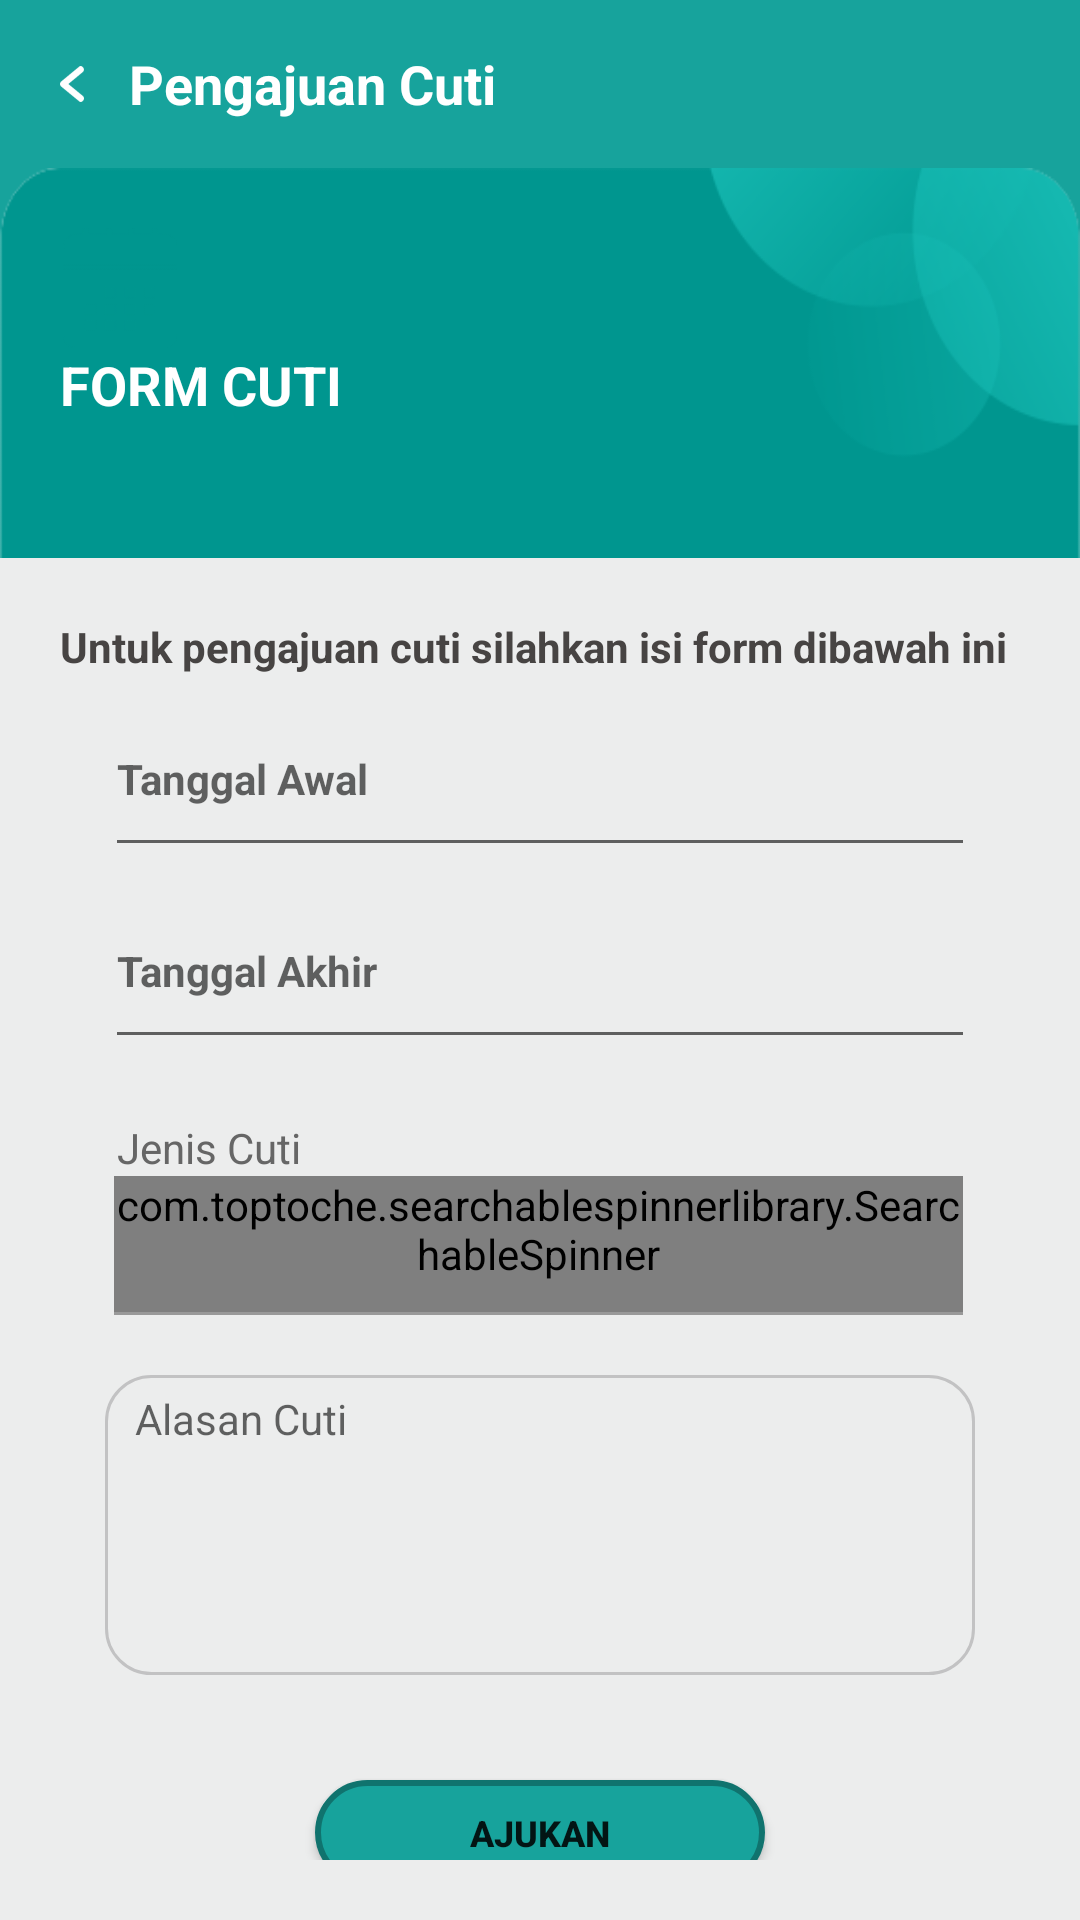

Icons on this 1080*1920 Android screen, each with the point to tap as (x=x, y=y):
back: (x=72, y=84)
